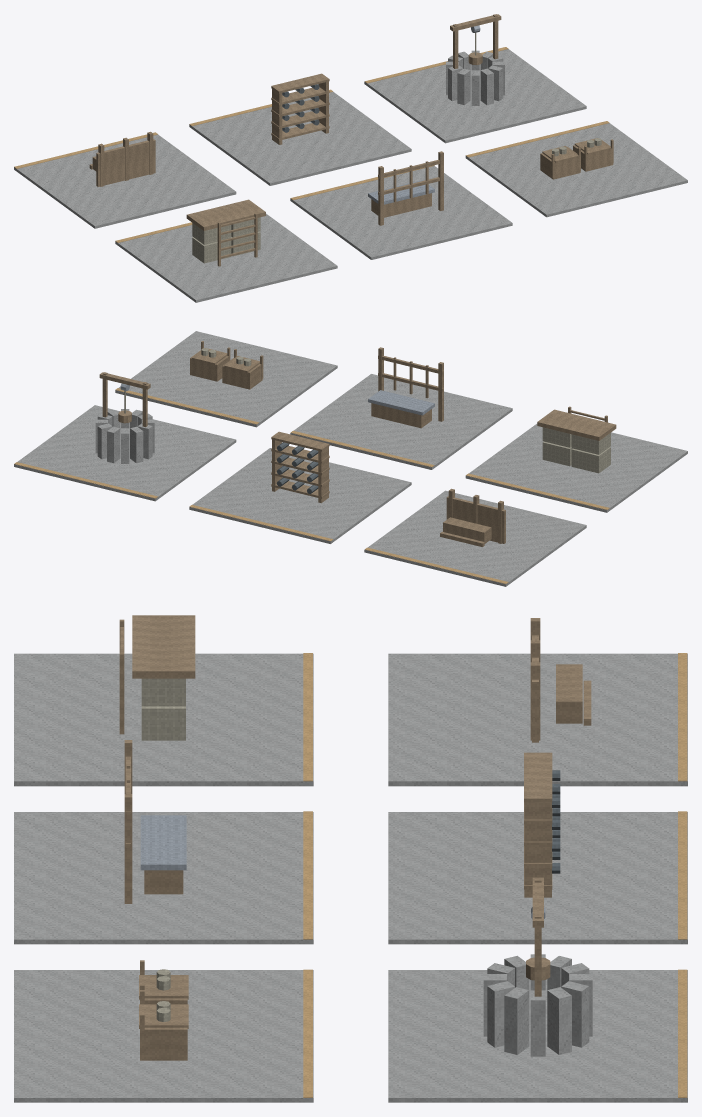
Rendered from level_blockout_kit_farmhouse_p01.glb.
The picture shows the model from 3 angles, top to bottom: view 1: azimuth 30°, elevation 25°; view 2: azimuth 150°, elevation 25°; view 3: azimuth 270°, elevation 25°; orthographic projection. The views are drawn at different scales.
Parts seen in each view (by area): view 1: level_blockout_kit_farmhouse_p01; view 2: level_blockout_kit_farmhouse_p01; view 3: level_blockout_kit_farmhouse_p01.
Part boxes in pixels (<box>): level_blockout_kit_farmhouse_p01: <box>14,14,687,302</box>; level_blockout_kit_farmhouse_p01: <box>14,331,687,586</box>; level_blockout_kit_farmhouse_p01: <box>14,615,687,1102</box>.
Size of the model in its own units: 19.65 by 2.92 by 12.6.
6 materials, 6 textured.
